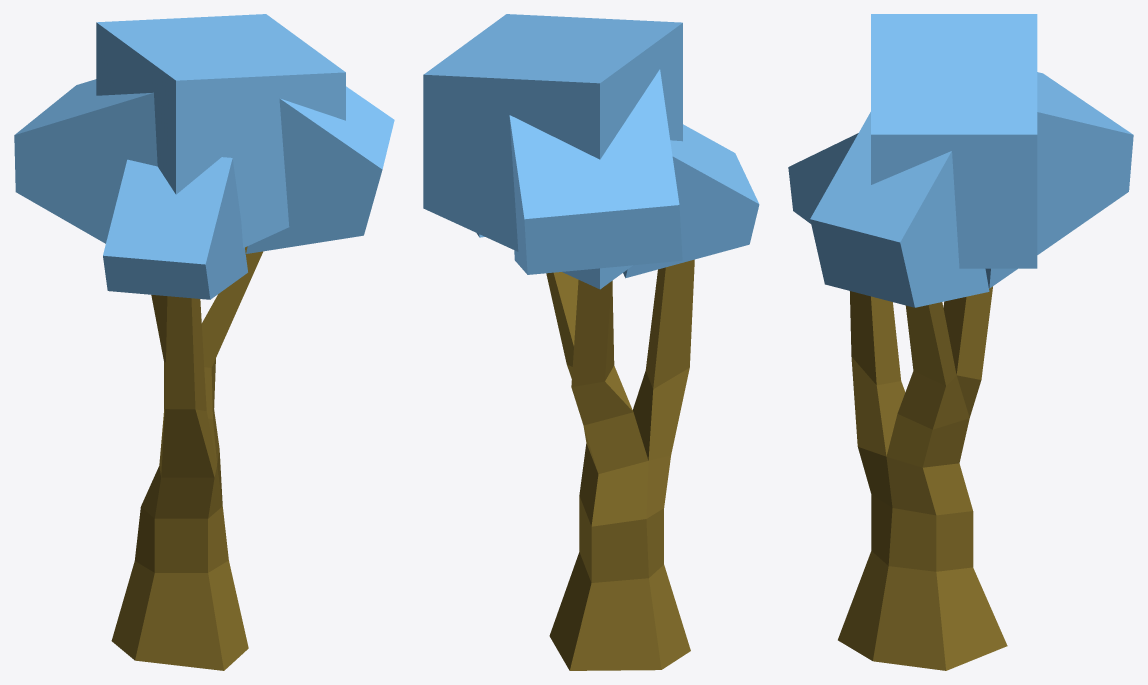
The model's file is tree_01.fbx.
The picture shows the model from 3 angles, left to right: view 1: azimuth 30°, elevation 25°; view 2: azimuth 150°, elevation 25°; view 3: azimuth 270°, elevation 25°; orthographic projection. The views are drawn at different scales.
Visible parts, largest first — view 1: tree_01; view 2: tree_01; view 3: tree_01.
Part boxes in pixels (x1,y1,x2,y2): tree_01: [14, 14, 394, 670]; tree_01: [423, 14, 759, 670]; tree_01: [788, 14, 1133, 670].
Bounding box in the file's own units: 670 × 1200 × 616.
